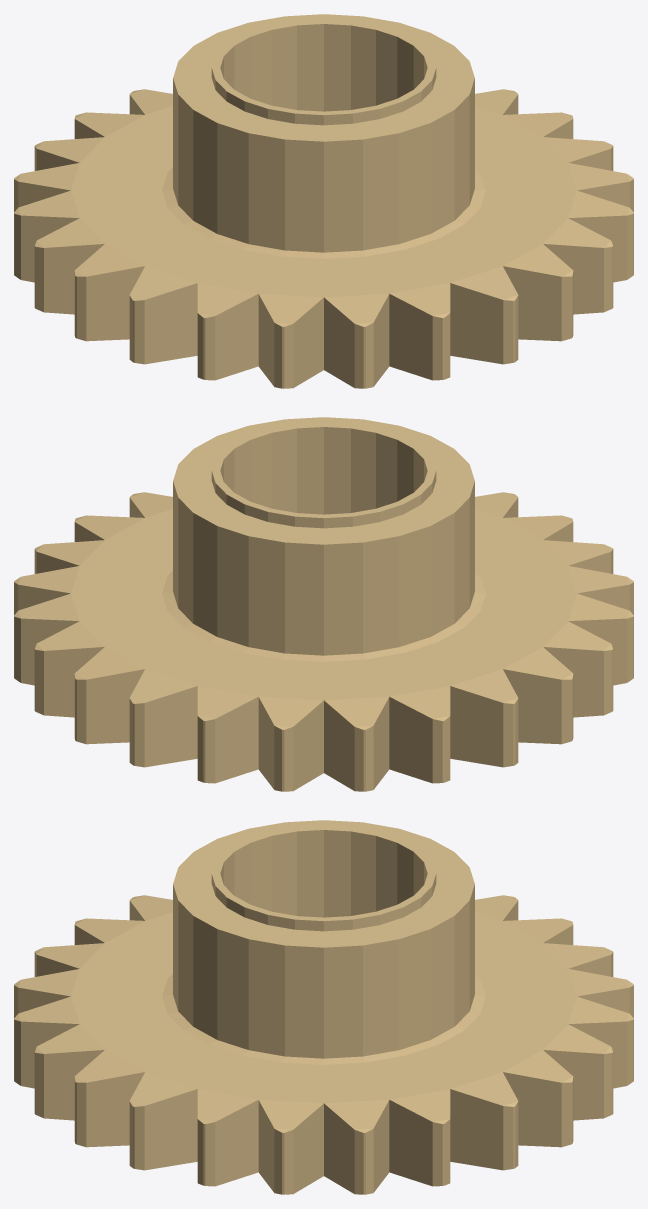
File: Gear2.fbx
The picture shows the model from 3 angles, top to bottom: view 1: azimuth 30°, elevation 25°; view 2: azimuth 150°, elevation 25°; view 3: azimuth 270°, elevation 25°; orthographic projection.
Parts seen in each view (by area): view 1: Cylinder; view 2: Cylinder; view 3: Cylinder.
Boxes of the visible parts, bbox=[...] form: Cylinder: bbox=[14, 14, 633, 388]; Cylinder: bbox=[14, 417, 633, 791]; Cylinder: bbox=[14, 820, 633, 1194].
Size of the model in its own units: 245 by 85.31 by 245.
